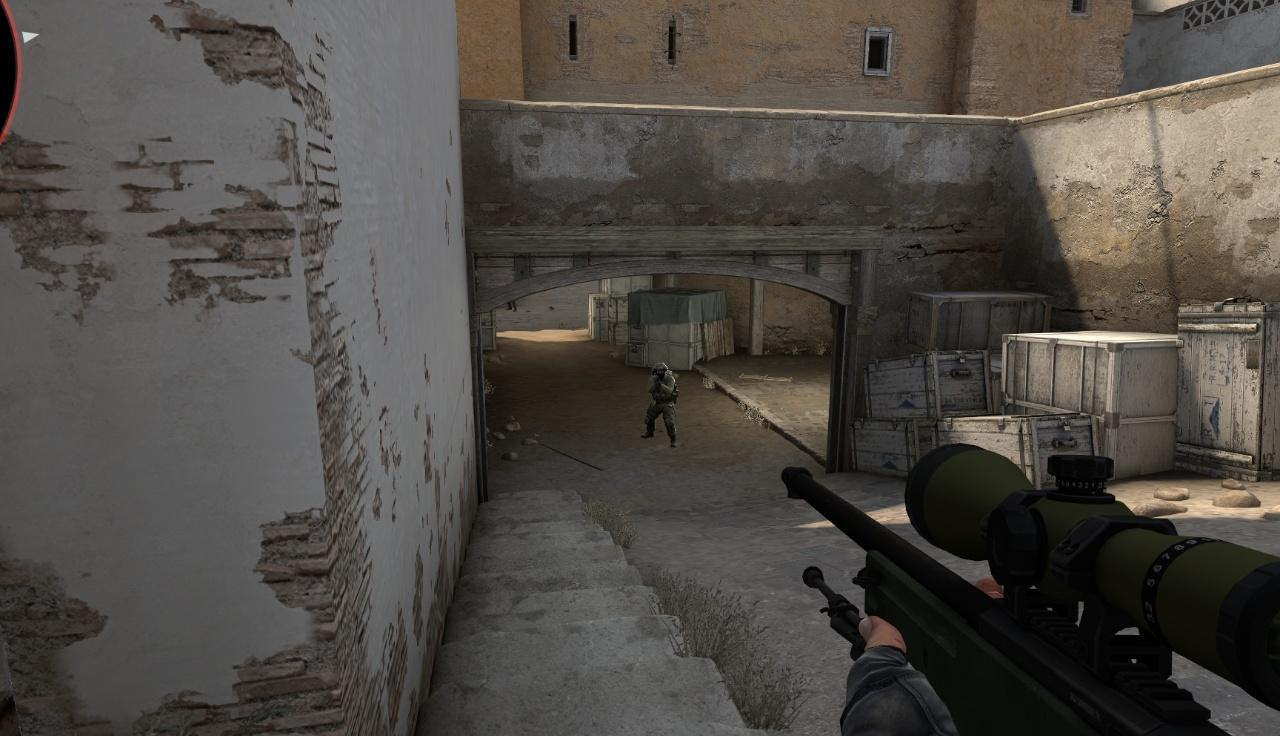ct: (641, 363, 677, 448)
cthead: (655, 363, 666, 379)
sniper: (779, 441, 1280, 736)
